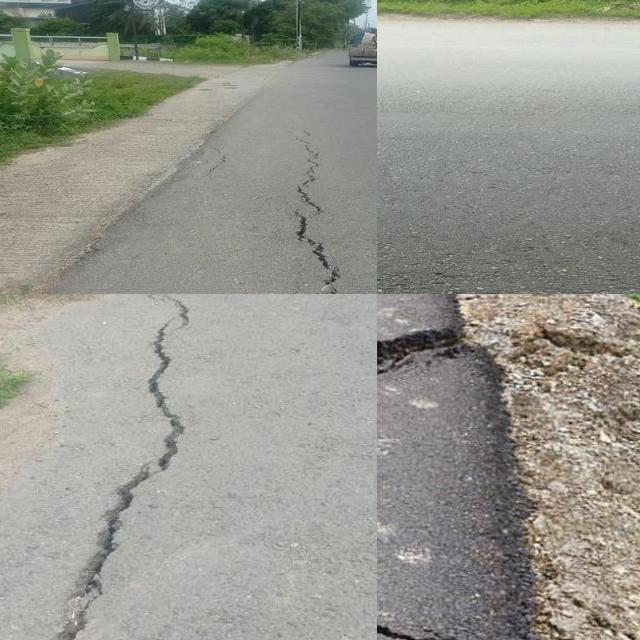Memanjang: (29, 294, 202, 640), (278, 129, 355, 294)
Pinggir: (377, 324, 552, 640)
